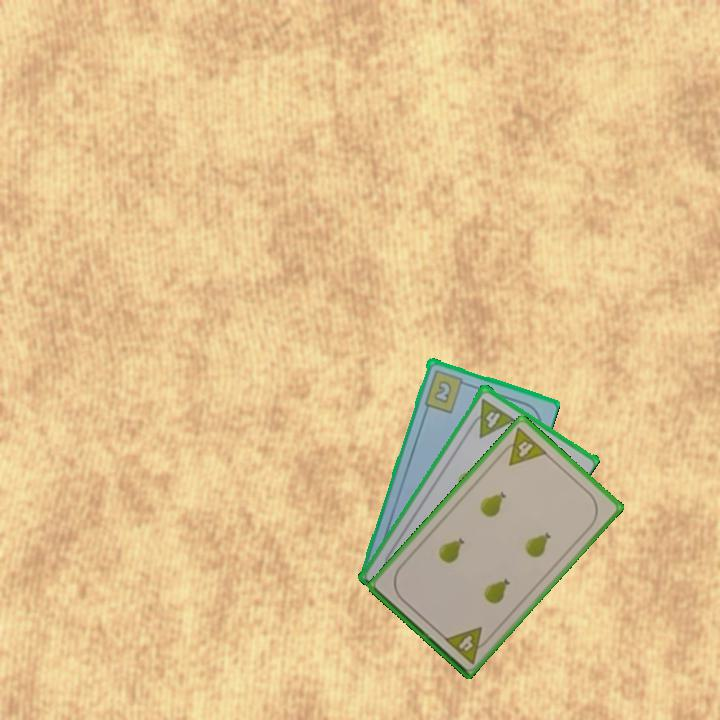2b: (421, 366, 471, 415)
4p: (495, 424, 550, 469), (440, 623, 494, 667), (465, 395, 517, 440)
